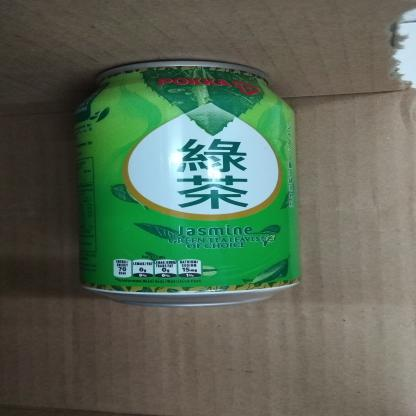bottle: (69, 56, 306, 309)
